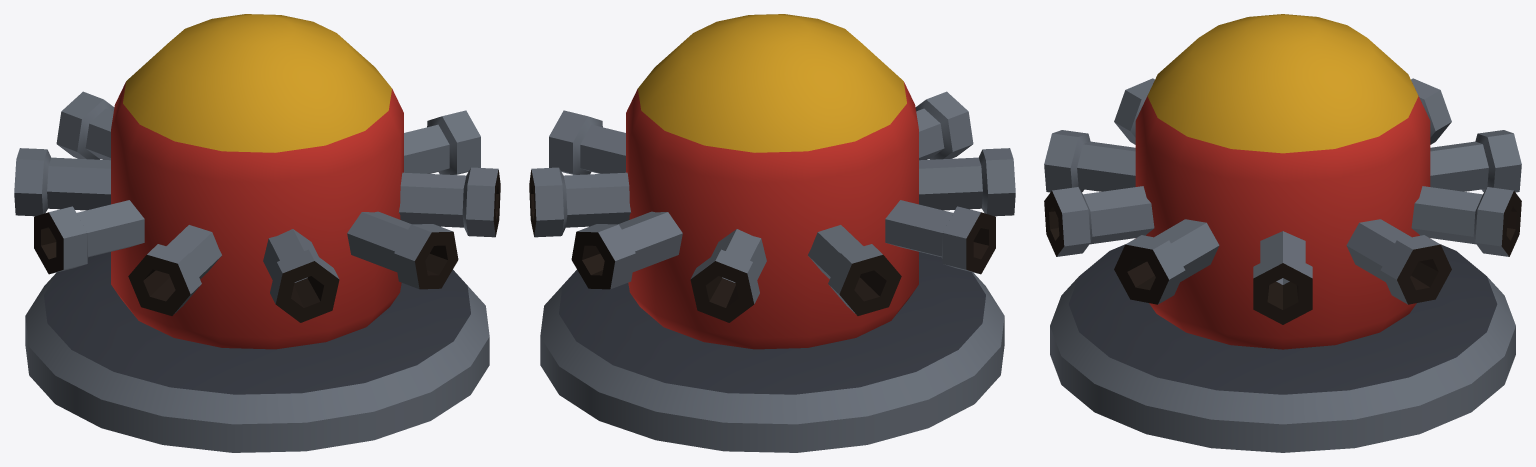
3 views of the same model, side by side, from view 1: azimuth 30°, elevation 25°; view 2: azimuth 150°, elevation 25°; view 3: azimuth 270°, elevation 25° (orthographic).
Visible parts, largest first — view 1: tachinha_1_torreta, tachinha_0_base; view 2: tachinha_1_torreta, tachinha_0_base; view 3: tachinha_1_torreta, tachinha_0_base.
Boxes of the visible parts, <box> form: tachinha_1_torreta: <box>14,14,500,349</box>; tachinha_0_base: <box>25,252,489,452</box>; tachinha_1_torreta: <box>529,14,1015,349</box>; tachinha_0_base: <box>540,252,1004,452</box>; tachinha_1_torreta: <box>1044,14,1521,349</box>; tachinha_0_base: <box>1050,244,1515,452</box>.
Bounding box in the file's own units: 0.702 × 0.53 × 0.697.
